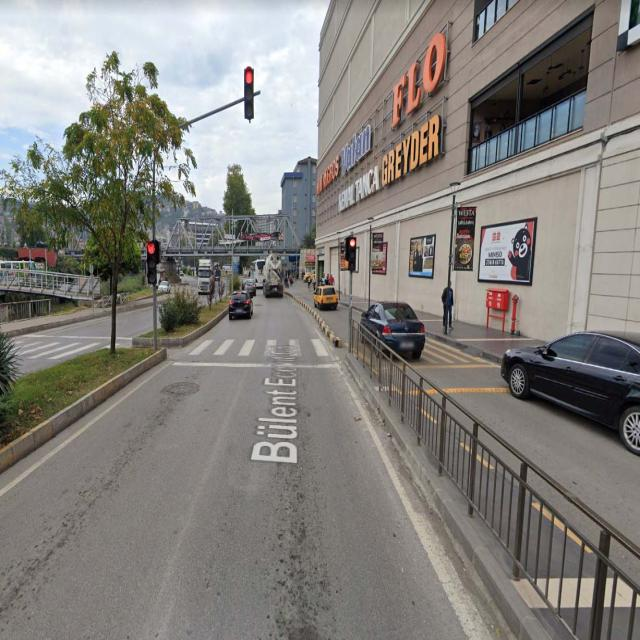kirmizi: (244, 68, 255, 119), (146, 240, 156, 282), (348, 238, 357, 272)
